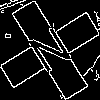N: (25, 25, 80, 83)
